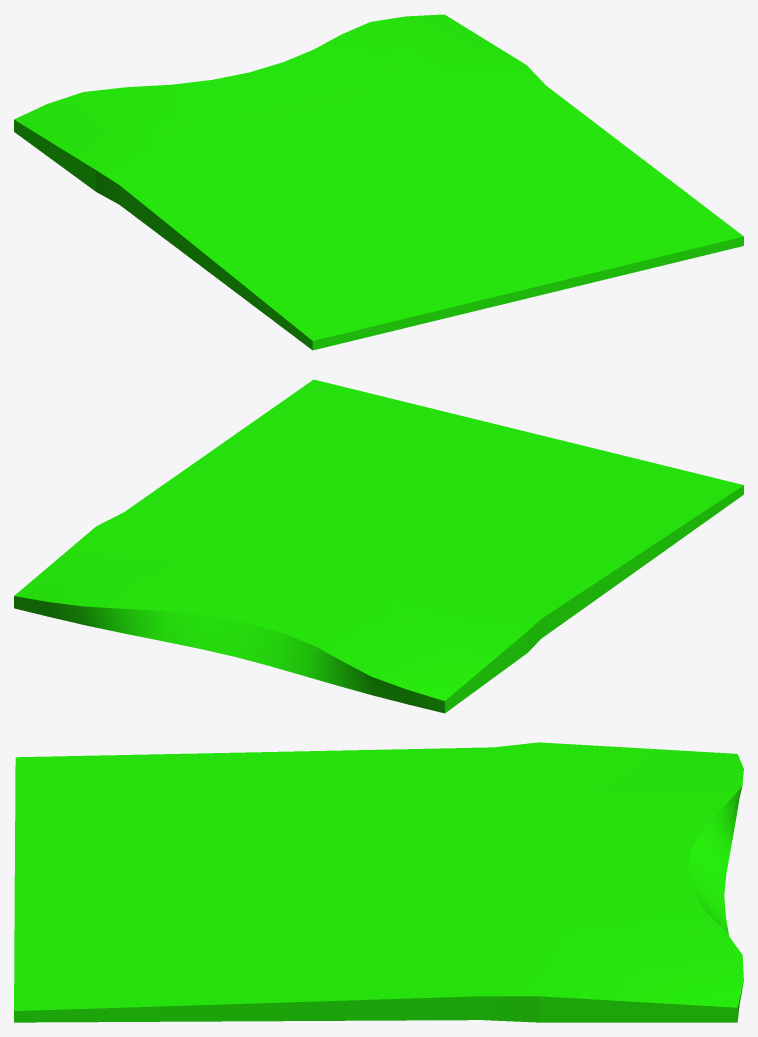
The model's file is umgebung_tshirt_sauber_low.FBX.
3 renders of one model, top to bottom at view 1: azimuth 30°, elevation 25°; view 2: azimuth 150°, elevation 25°; view 3: azimuth 270°, elevation 25°, orthographic. The views are drawn at different scales.
Parts seen in each view (by area): view 1: o_tshirt_sauber_low; view 2: o_tshirt_sauber_low; view 3: o_tshirt_sauber_low.
Part boxes in pixels (x1,y1,x2,y2): o_tshirt_sauber_low: [14, 14, 743, 350]; o_tshirt_sauber_low: [14, 379, 743, 713]; o_tshirt_sauber_low: [14, 742, 743, 1022].
Size of the model in its own units: 83.11 by 101 by 4.08.
